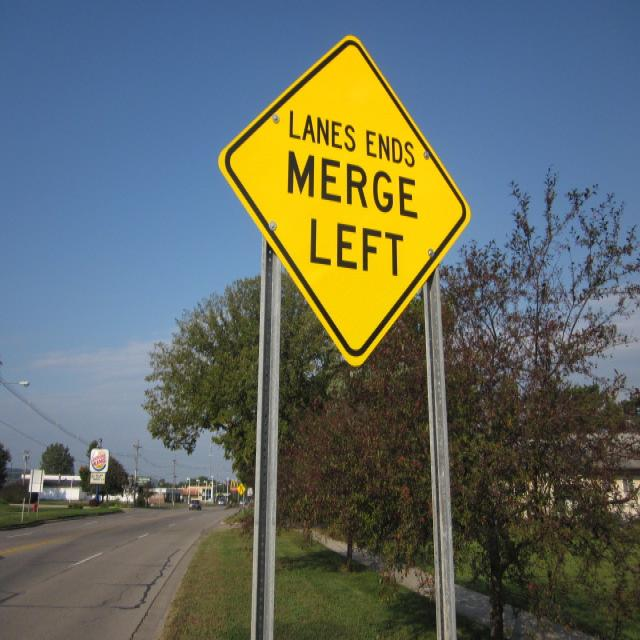warning: (218, 33, 472, 370)
